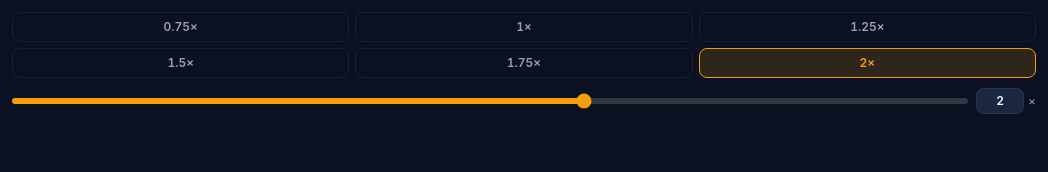
Test: PlaybackSpeedControl › empty string on blur reverts to current value
The image size is (1048, 172).
Clear the field named "playback speed value": {"x": 1000, "y": 101} left=976, top=88, right=1024, bottom=114
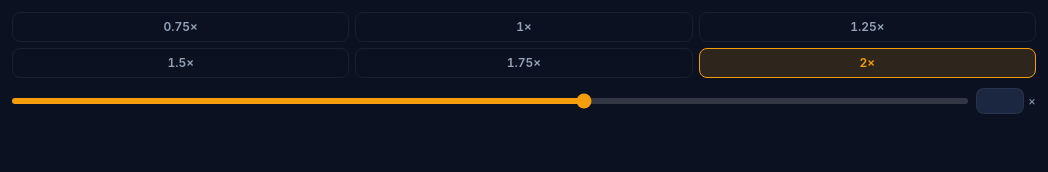
Leave the field named "playback speed value", box left=976, top=88, right=1024, bottom=114
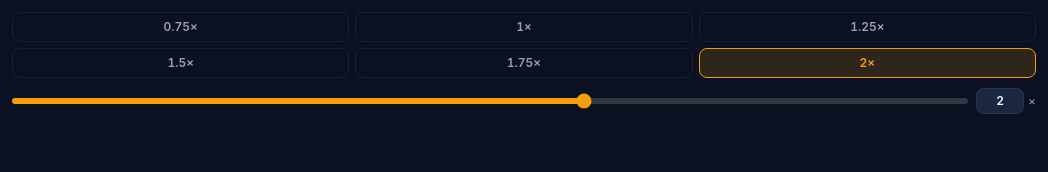
Expected: the field named "playback speed value" holds "2", left=976, top=88, right=1024, bottom=114
